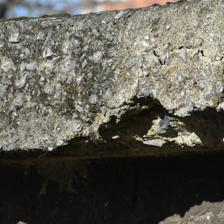Crack: (54, 94, 222, 154), (150, 41, 222, 70)
